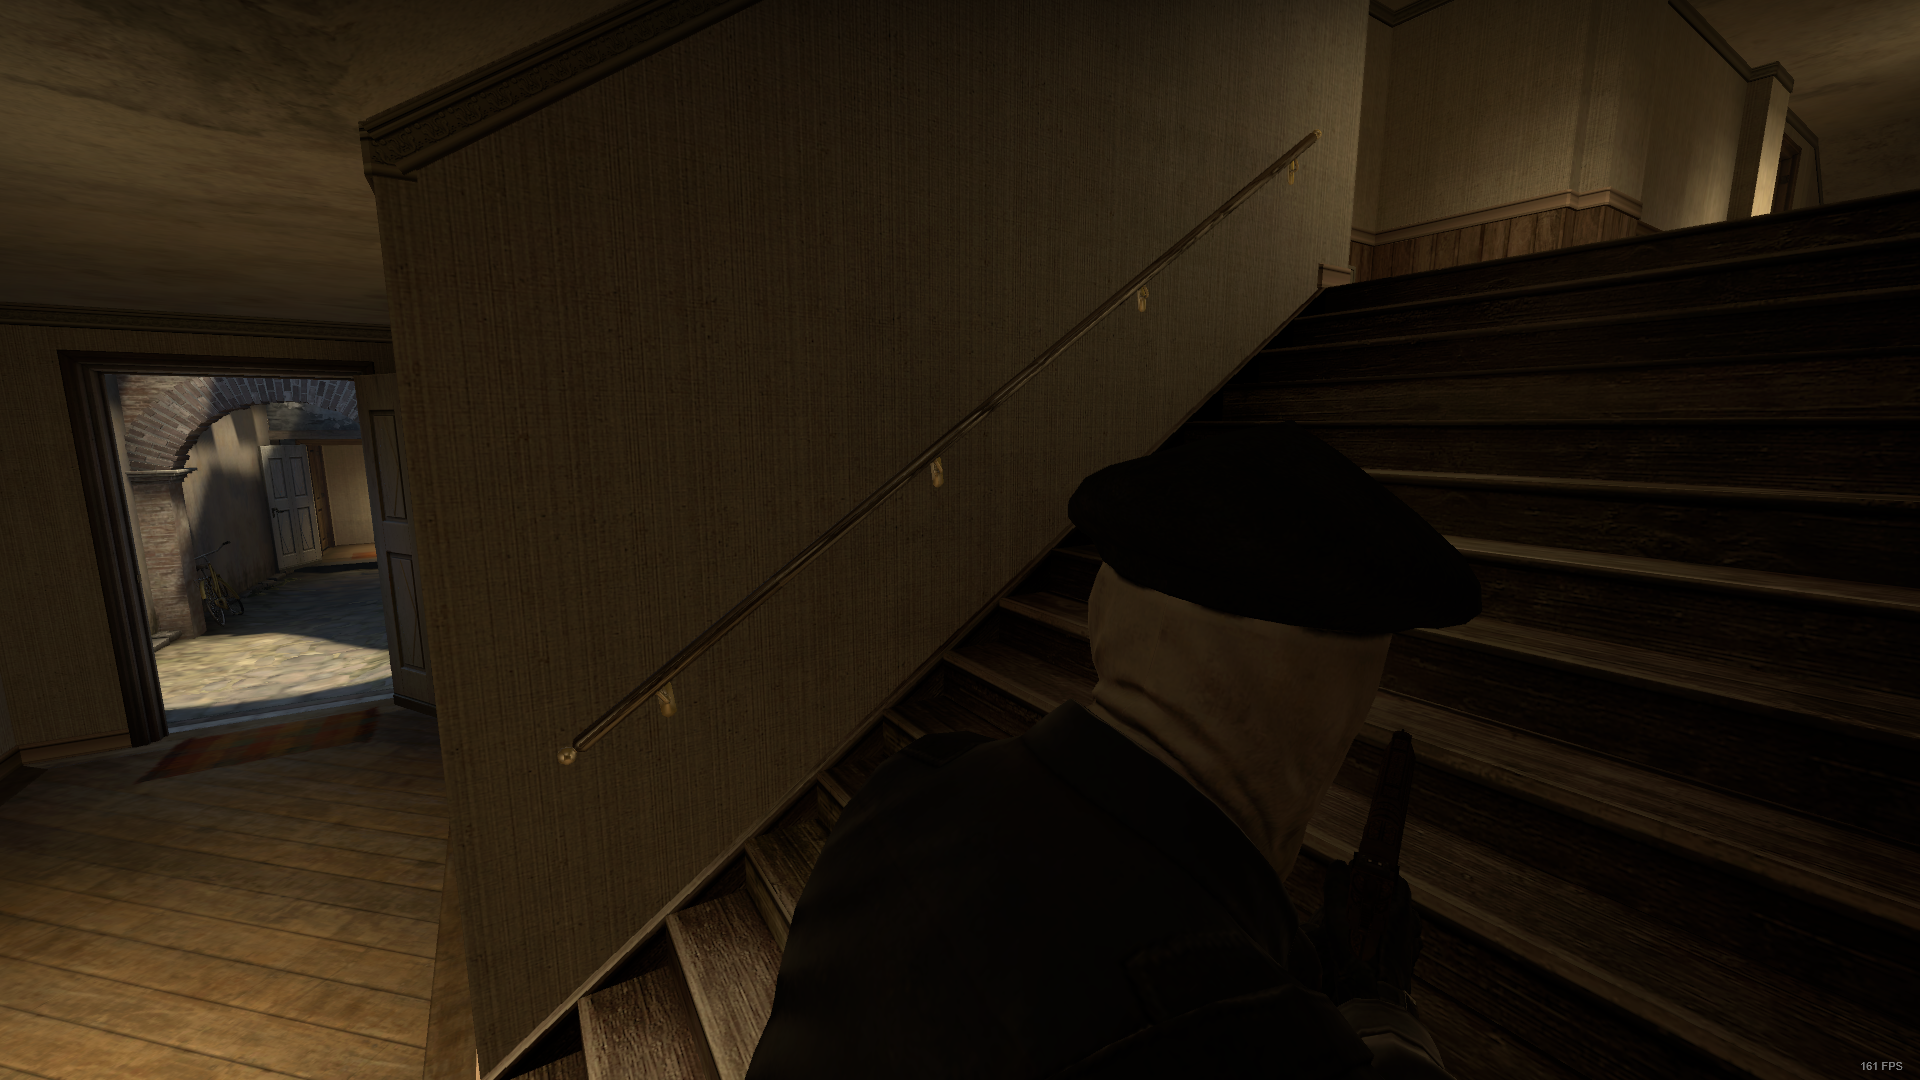t: (699, 433, 1478, 1080)
